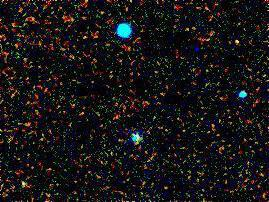star: (221, 27, 251, 57)
